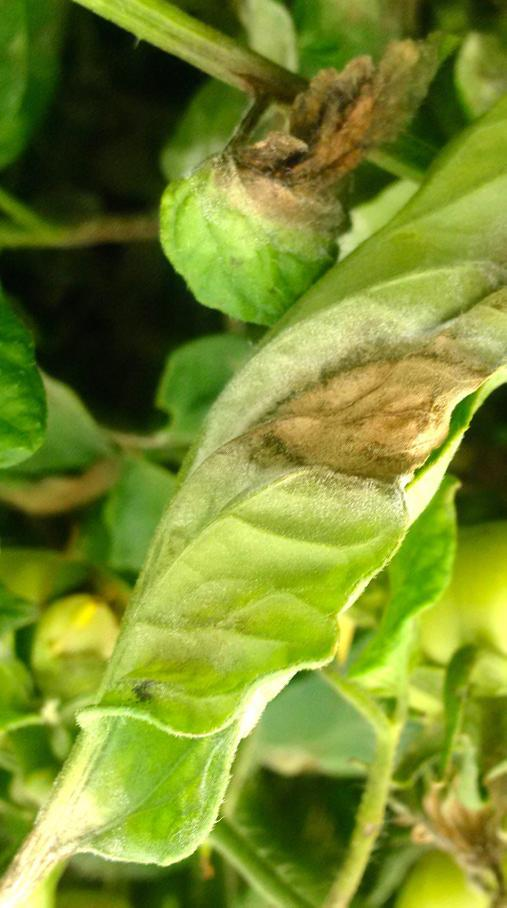Tomato leaf late blight: (0, 0, 507, 908), (144, 27, 466, 328)
